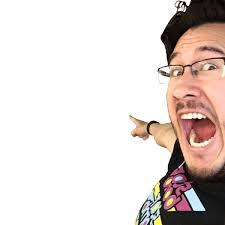hand: (125, 110, 155, 147)
